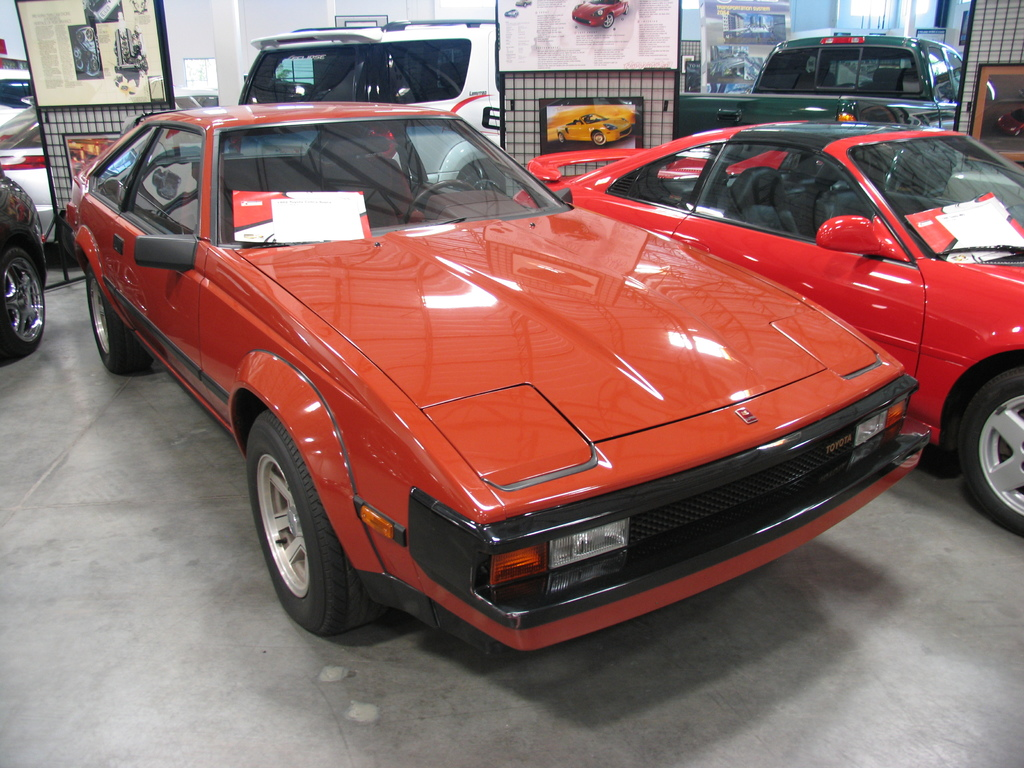Car: (0, 0, 1023, 663)
